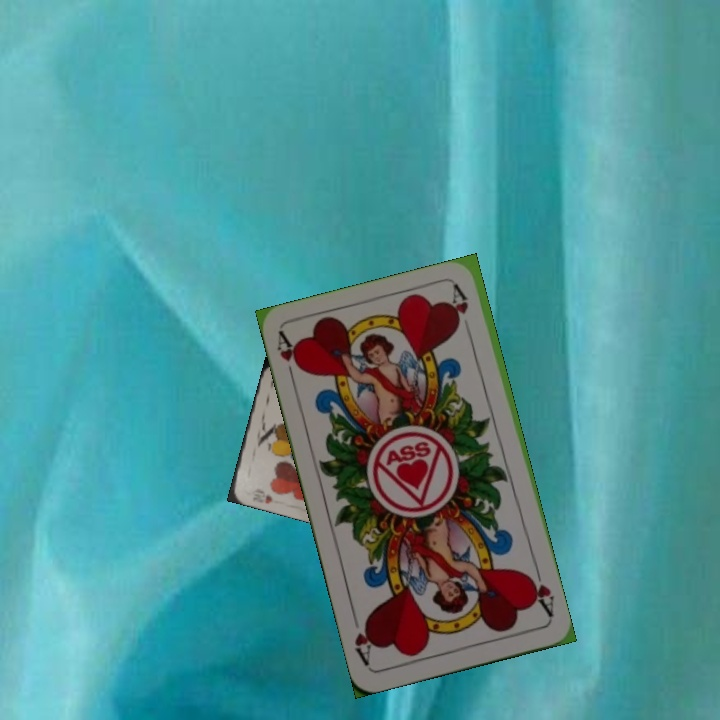H10: (248, 484, 275, 506)
HA: (273, 329, 306, 388), (523, 563, 557, 620)
